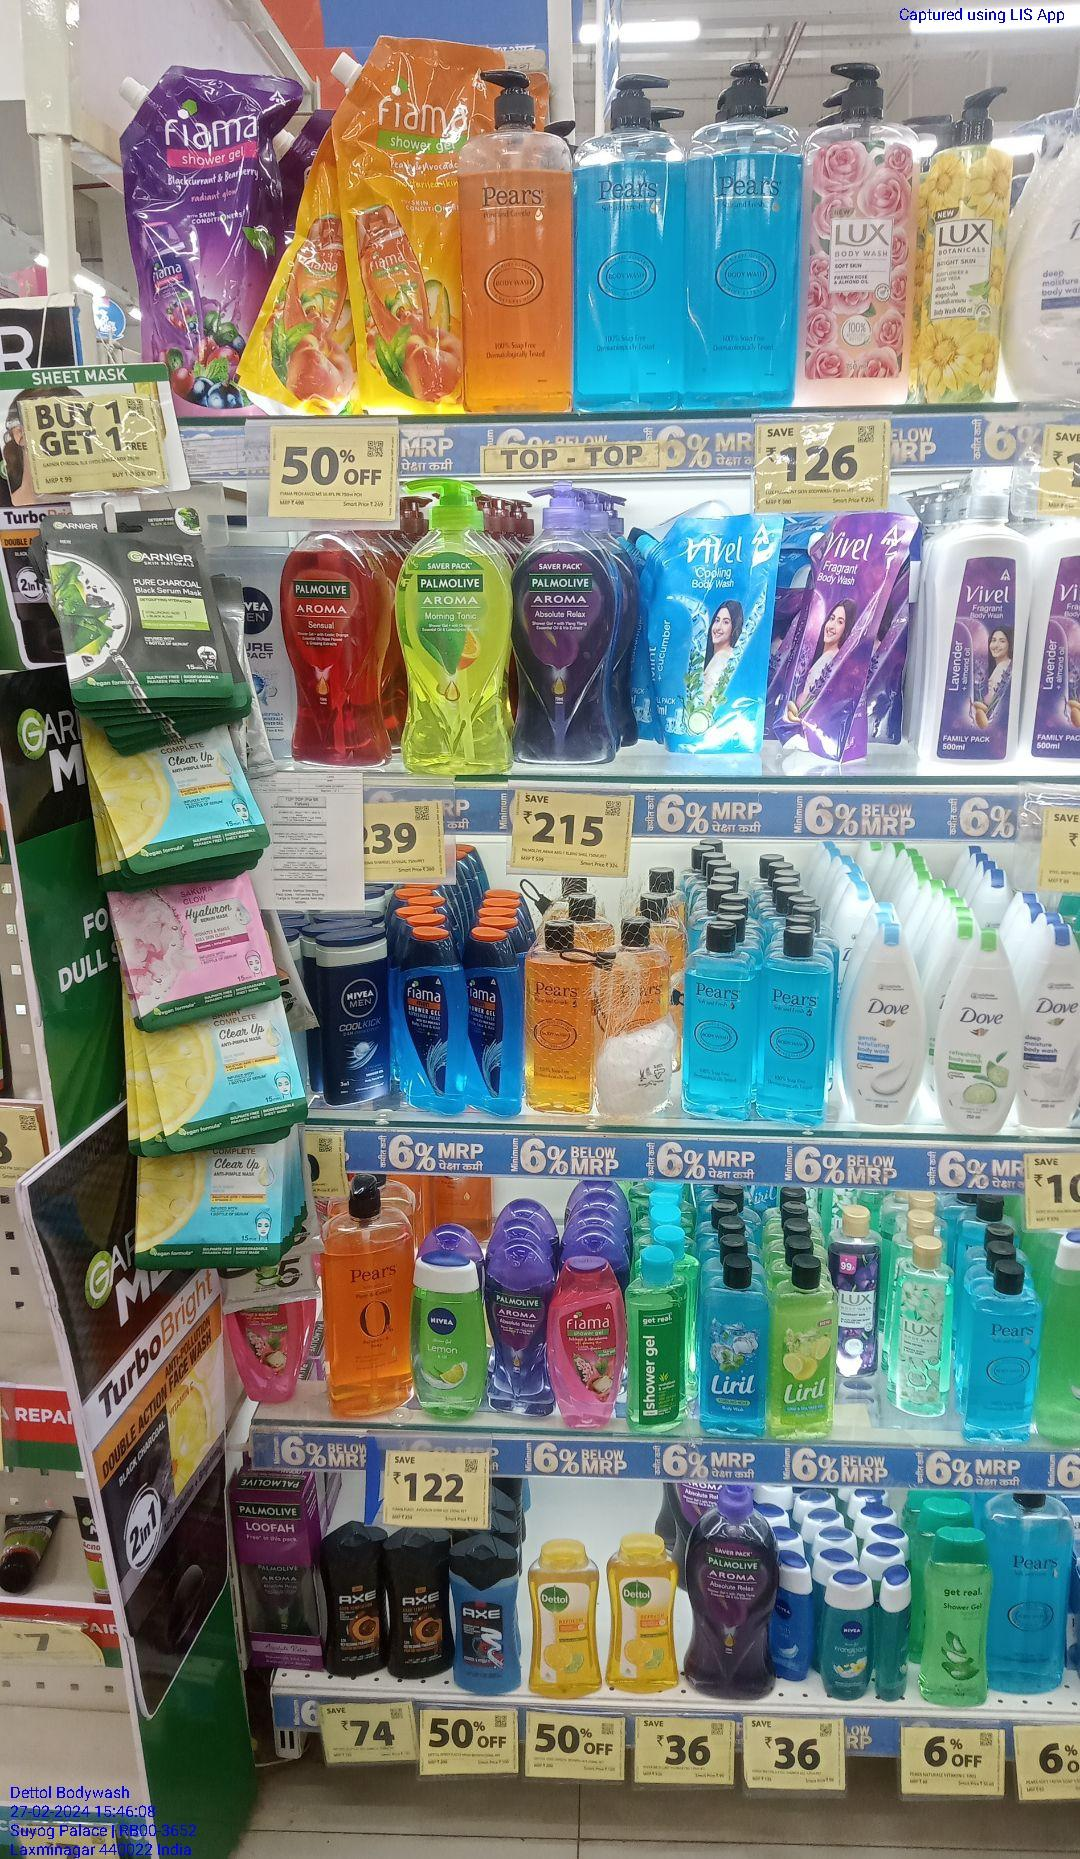Dettol_Bodywash_Refresh: (612, 1538, 679, 1696), (532, 1539, 597, 1701)
Dove_Deep_Moisture_Body_Wash_250ML: (1018, 926, 1080, 1136)
Dove_Gentle_Exfoliating_Body_Wash_250ML: (850, 924, 922, 1130)
Dove_Refreshing_Body_Wash_250ML: (933, 935, 1014, 1134)
Fiama_Shower_Gel_Peach_and_Avocado_250ML: (557, 1262, 620, 1433)
Liril_Cooling_Mint_Body_Wash_250ML: (703, 1262, 764, 1445)
Liril_Lime_and_Tea_Tree_Oil_Body_Wash_250ML: (773, 1260, 834, 1442)
Lux_Black_Orchid_Scent_and_Juniper_Oil_Body_Wash_245ML: (836, 1211, 878, 1385)
Lux_Body_Wash_Skin_Detox_Freesia_Scent_and_Alove_Vera_245ML: (890, 1239, 946, 1421)
Nivea_Shower_Gel_Frangipani_and_Oil_250ML: (823, 1580, 878, 1701)
Nivea_Shower_Gel_Lemon_and_Oil_250ML: (410, 1260, 480, 1426)
Palmolive_Aroma_Relax_250ML: (487, 1239, 550, 1422)
Pears_Pure_Glycerin_and_Mint_Extracts_Body_Wash_250ML: (684, 926, 756, 1121), (761, 927, 829, 1124), (975, 1268, 1041, 1450)
